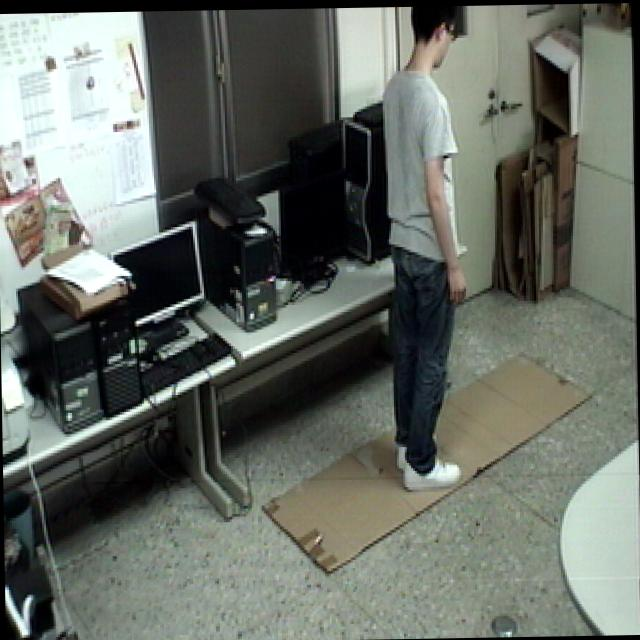stand: (365, 0, 485, 495)
